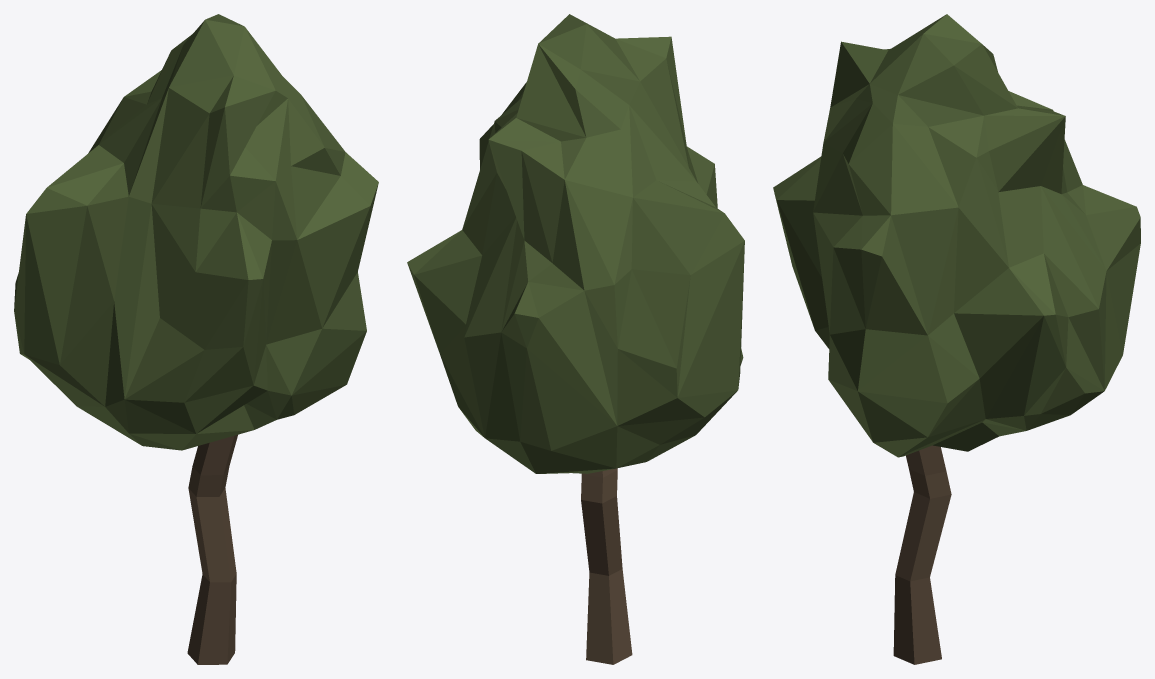
Rendered from Tree_073.fbx.
The picture shows the model from 3 angles, left to right: view 1: azimuth 30°, elevation 25°; view 2: azimuth 150°, elevation 25°; view 3: azimuth 270°, elevation 25°; orthographic projection. The views are drawn at different scales.
Parts seen in each view (by area): view 1: Tree_073; view 2: Tree_073; view 3: Tree_073.
Part boxes in pixels (x1,y1,x2,y2): Tree_073: (14,14,378,664); Tree_073: (407,14,744,664); Tree_073: (773,14,1140,664).
Bounding box in the file's own units: 0.9411 × 1.85 × 0.9596.
Materials: 1 (1 with a texture image).
